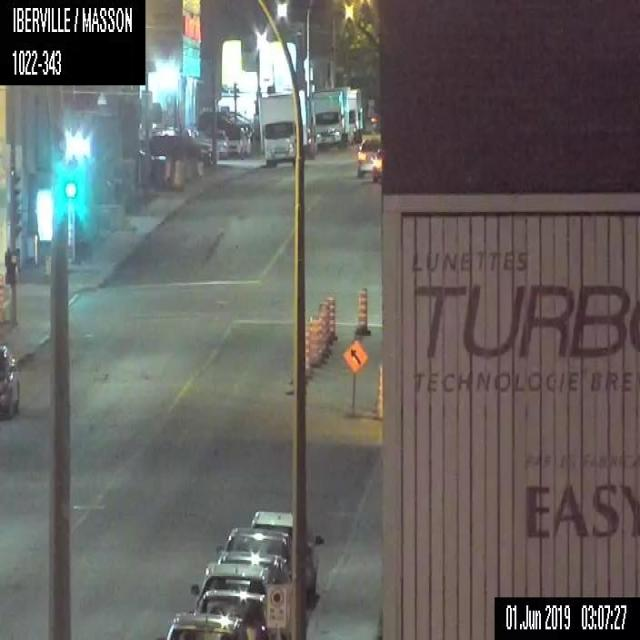construction: (343, 337, 367, 419), (354, 285, 370, 336), (308, 314, 321, 368), (327, 291, 338, 341), (304, 319, 313, 380), (375, 359, 383, 419), (319, 301, 327, 355)
vehicle: (249, 510, 323, 607), (214, 524, 299, 574), (194, 590, 277, 639), (259, 89, 306, 164), (189, 560, 274, 596), (155, 610, 251, 639), (310, 88, 348, 149), (0, 338, 21, 418), (344, 88, 362, 145), (355, 138, 380, 178), (223, 127, 246, 160), (204, 129, 227, 161), (370, 147, 382, 183)
